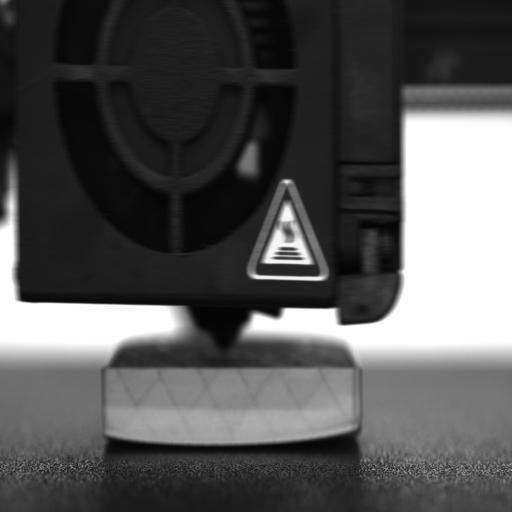warp: (317, 416, 366, 450), (102, 426, 146, 448)
